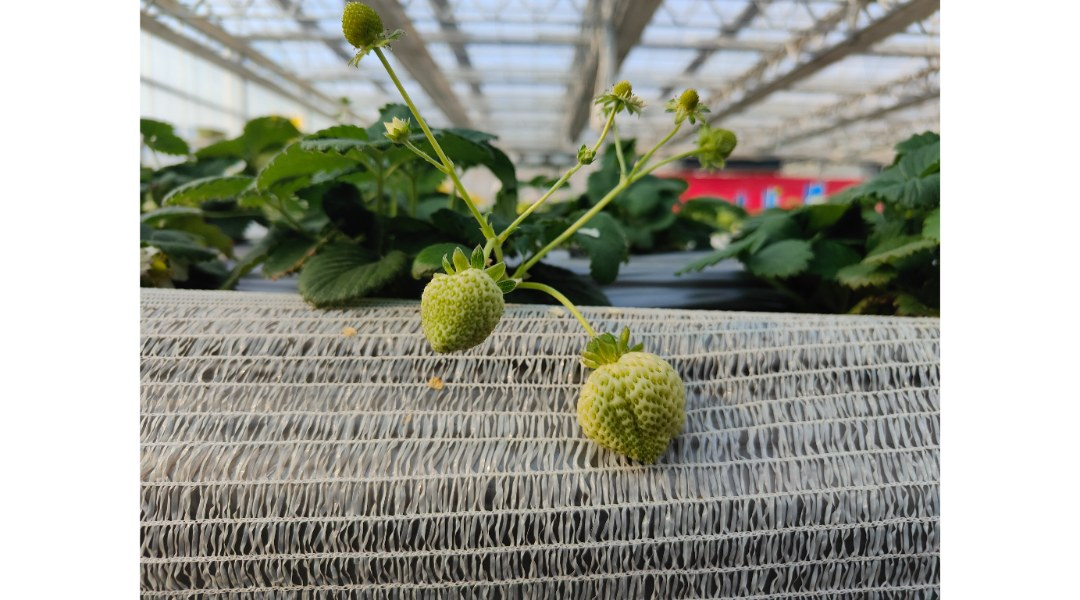berry: (567, 342, 691, 468), (414, 251, 512, 369), (330, 1, 401, 55), (587, 69, 647, 121), (694, 122, 735, 174), (669, 78, 707, 132), (376, 113, 413, 150)
strain: (370, 43, 492, 237), (536, 195, 614, 266), (506, 172, 581, 235), (522, 284, 595, 330)
